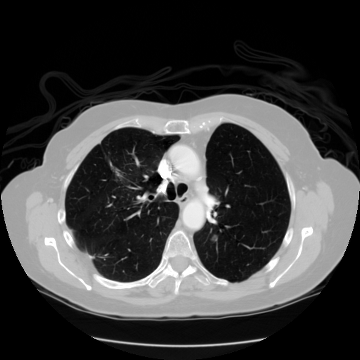nodule: (210, 234, 218, 242)
